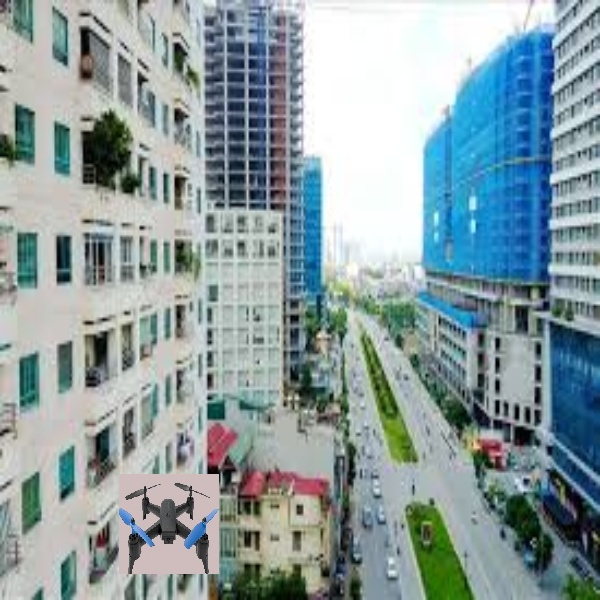drone: (120, 473, 222, 573)
